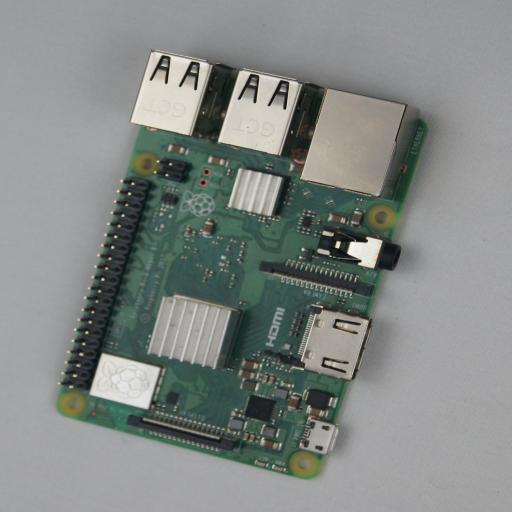Raspberry Pi 3 B-: (60, 49, 438, 479)
